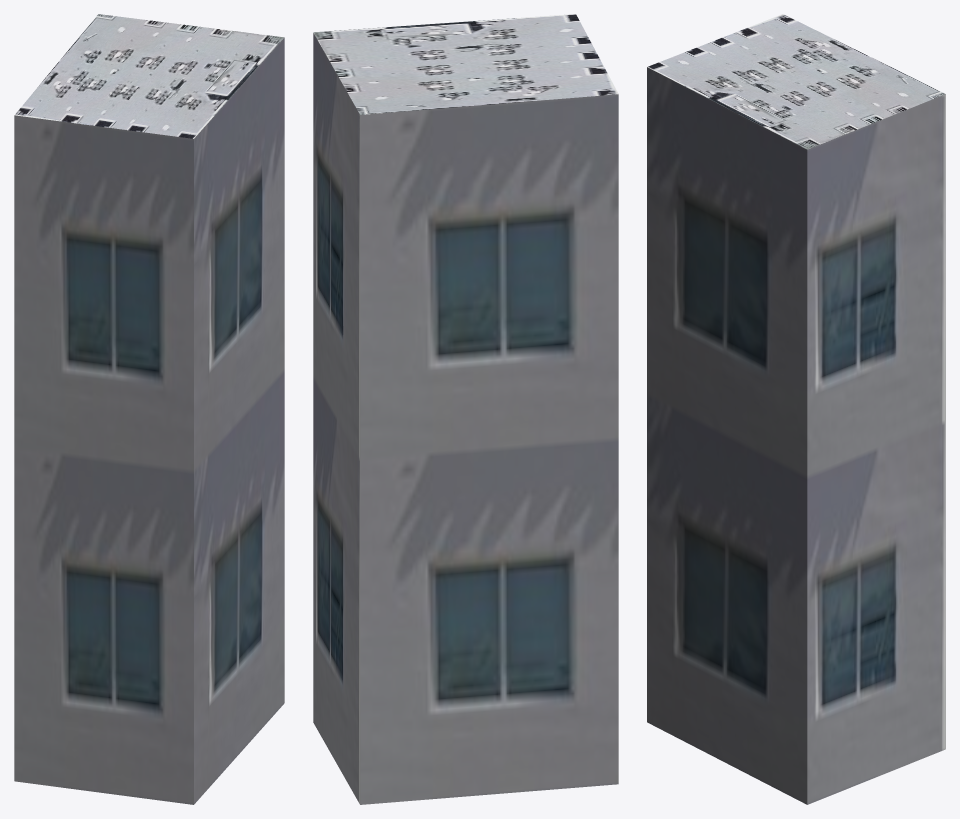
The model's file is ResTex__4160.fbx.
3 renders of one model, left to right at view 1: azimuth 30°, elevation 25°; view 2: azimuth 150°, elevation 25°; view 3: azimuth 270°, elevation 25°, orthographic. The views are drawn at different scales.
Visible parts, largest first — view 1: CityEngineMaterial_10_m, CityEngineMaterial_4_m; view 2: CityEngineMaterial_10_m, CityEngineMaterial_4_m; view 3: CityEngineMaterial_10_m, CityEngineMaterial_4_m.
Part boxes in pixels (bbox=[...]): CityEngineMaterial_10_m: bbox=[14, 37, 284, 804]; CityEngineMaterial_4_m: bbox=[15, 14, 283, 138]; CityEngineMaterial_10_m: bbox=[313, 33, 618, 804]; CityEngineMaterial_4_m: bbox=[313, 14, 618, 114]; CityEngineMaterial_10_m: bbox=[647, 67, 945, 804]; CityEngineMaterial_4_m: bbox=[647, 14, 945, 149].
Bounding box in the file's own units: 2.66 × 6 × 2.48.
Materials: 2 (2 with a texture image).
